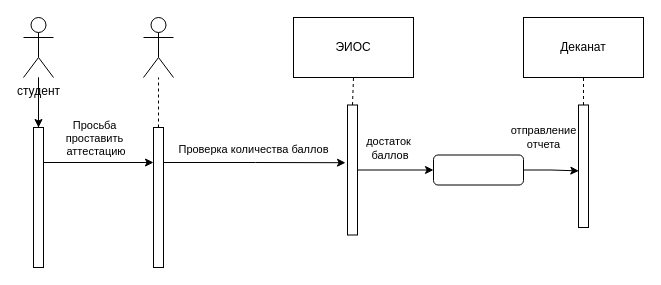
The diagram is 661 pixels wide and 285 high, and some of its shapes have lost their labels. The shapes that lost their labels are listed below. From the top down, each one's centre as x and y in pixels, then its label:
At [158,47]: "преподаватель".
At [478,169]: "проставление аттестации".
